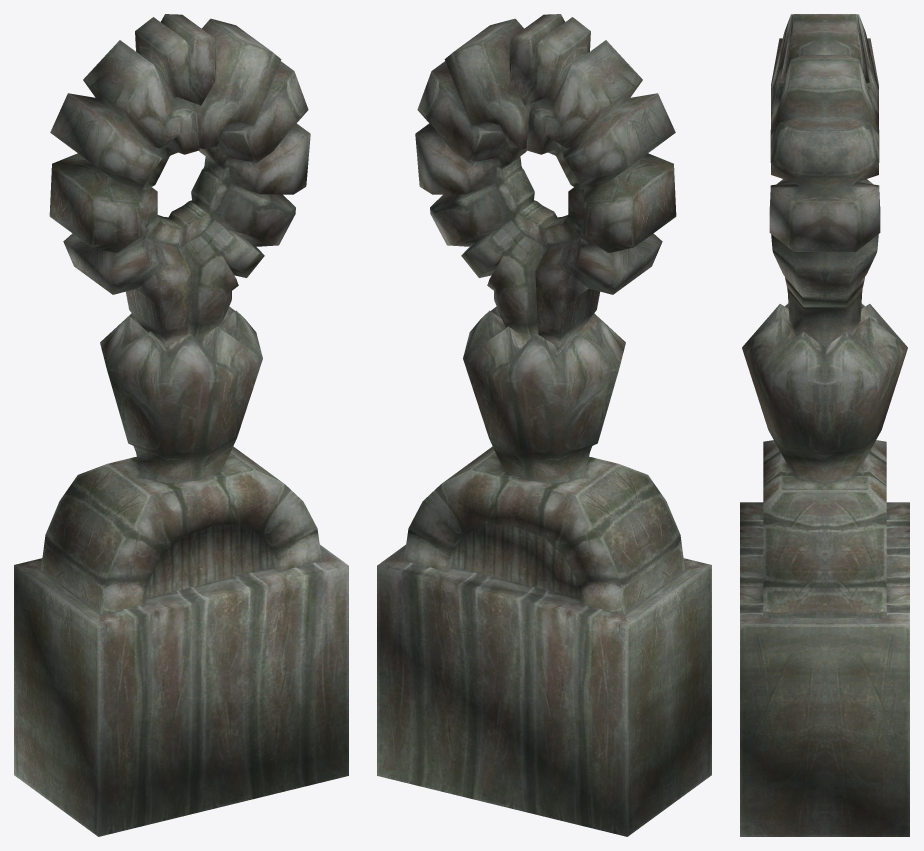
The model's file is tombstone.dae.
3 renders of one model, left to right at view 1: azimuth 30°, elevation 25°; view 2: azimuth 150°, elevation 25°; view 3: azimuth 270°, elevation 25°, orthographic.
Parts seen in each view (by area): view 1: UniqueTombstone; view 2: UniqueTombstone; view 3: UniqueTombstone.
Part boxes in pixels (x1,y1,x2,y2): UniqueTombstone: [14, 14, 348, 836]; UniqueTombstone: [377, 14, 711, 836]; UniqueTombstone: [740, 14, 909, 836].
Size of the model in its own units: 0.9412 by 0.5494 by 2.7.
Materials: 1 (1 with a texture image).
